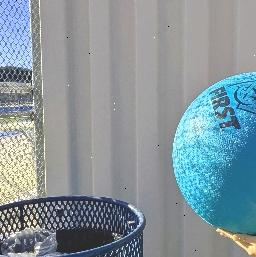algae: (176, 68, 256, 235)
